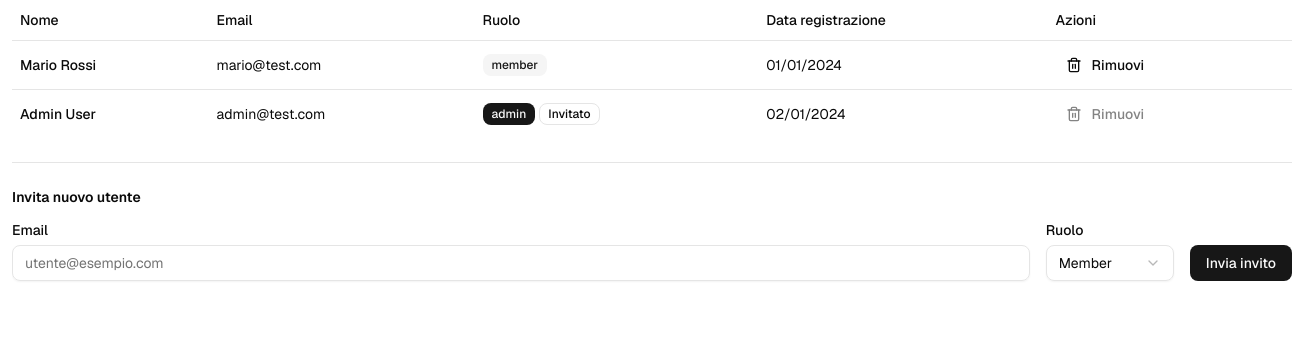
Test: UserManagement › adds new user to table after successful invite
In the field with placeholder "utente@esempio.com": (521, 262) [12,244,1030,280], type "newuser@test.com"
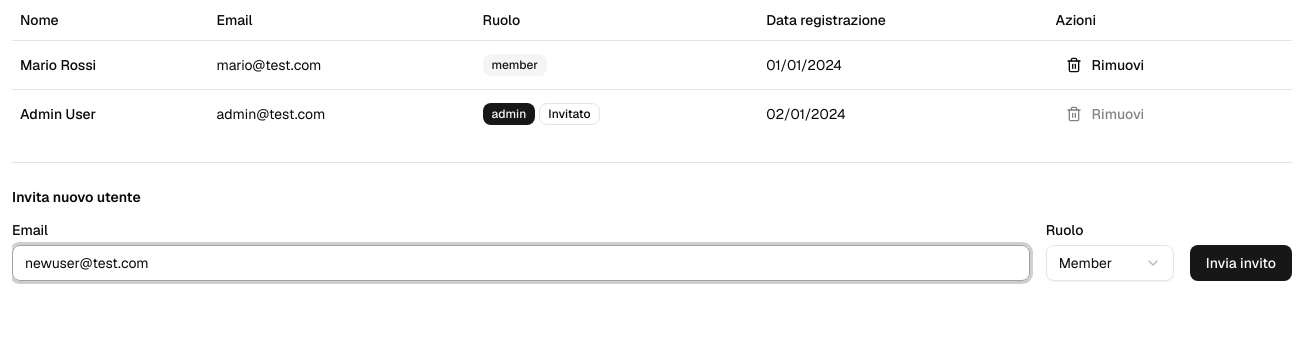
Click the button "Invia invito": (1241, 262) [1190,244,1292,280]
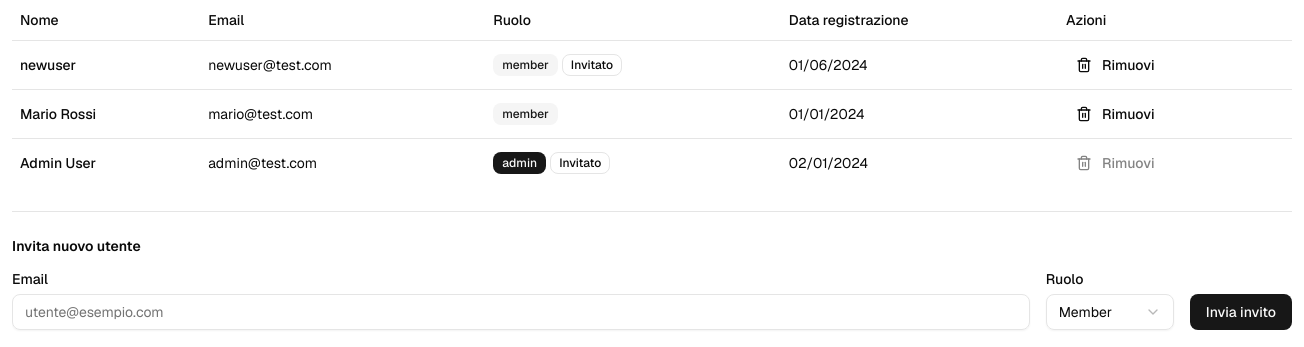
Expected: the text "newuser" is shown, [12,40,200,89]
